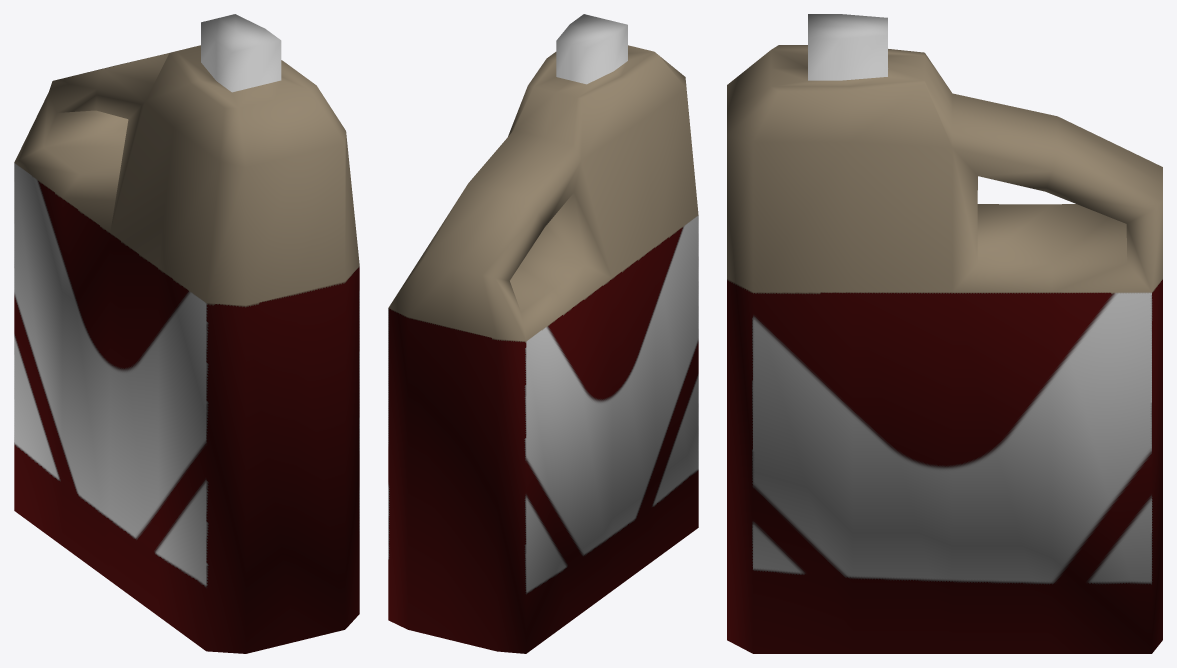
The model's file is vegOil.fbx.
The picture shows the model from 3 angles, left to right: view 1: azimuth 30°, elevation 25°; view 2: azimuth 150°, elevation 25°; view 3: azimuth 270°, elevation 25°; orthographic projection. The views are drawn at different scales.
Visible parts, largest first — view 1: vegOil; view 2: vegOil; view 3: vegOil.
Part boxes in pixels (box(x1,y1,x2,y2)): vegOil: box(14, 14, 359, 653); vegOil: box(388, 14, 698, 653); vegOil: box(727, 14, 1162, 653).
Bounding box in the file's own units: 201 × 710 × 477.
Materials: 1 (1 with a texture image).
